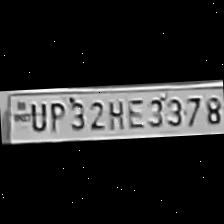2: (84, 97, 106, 130)
3: (65, 97, 85, 130), (162, 93, 182, 126), (144, 94, 162, 128)
7: (180, 93, 202, 127)
8: (200, 93, 222, 125)
E: (124, 94, 144, 130)
H: (104, 96, 124, 130)
P: (44, 98, 64, 132)
U: (26, 100, 46, 132)
